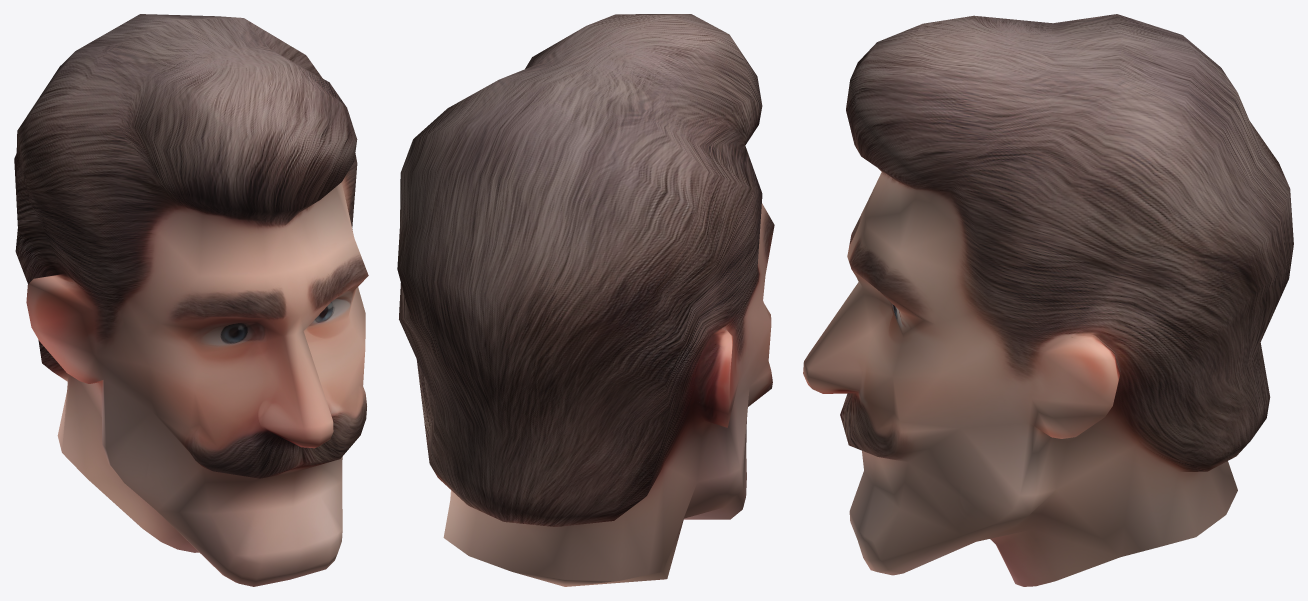
Rendered from stylized_head_3d_model.fbx.
The picture shows the model from 3 angles, left to right: view 1: azimuth 30°, elevation 25°; view 2: azimuth 150°, elevation 25°; view 3: azimuth 270°, elevation 25°; orthographic projection. The views are drawn at different scales.
Parts seen in each view (by area): view 1: tripo_node_8ccd4d5f; view 2: tripo_node_8ccd4d5f; view 3: tripo_node_8ccd4d5f.
Boxes of the visible parts, x1,y1,x2,y2 form: tripo_node_8ccd4d5f: (14,14,368,586); tripo_node_8ccd4d5f: (397,14,774,586); tripo_node_8ccd4d5f: (803,14,1293,586).
Bounding box in the file's own units: 0.6362 × 0.9995 × 0.8286.
Materials: 1 (1 with a texture image).
